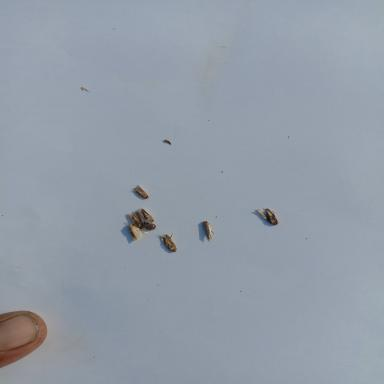pbw: (256, 207, 279, 226), (136, 207, 158, 224), (162, 234, 180, 252), (126, 213, 146, 229), (201, 220, 215, 240), (132, 185, 150, 198)
